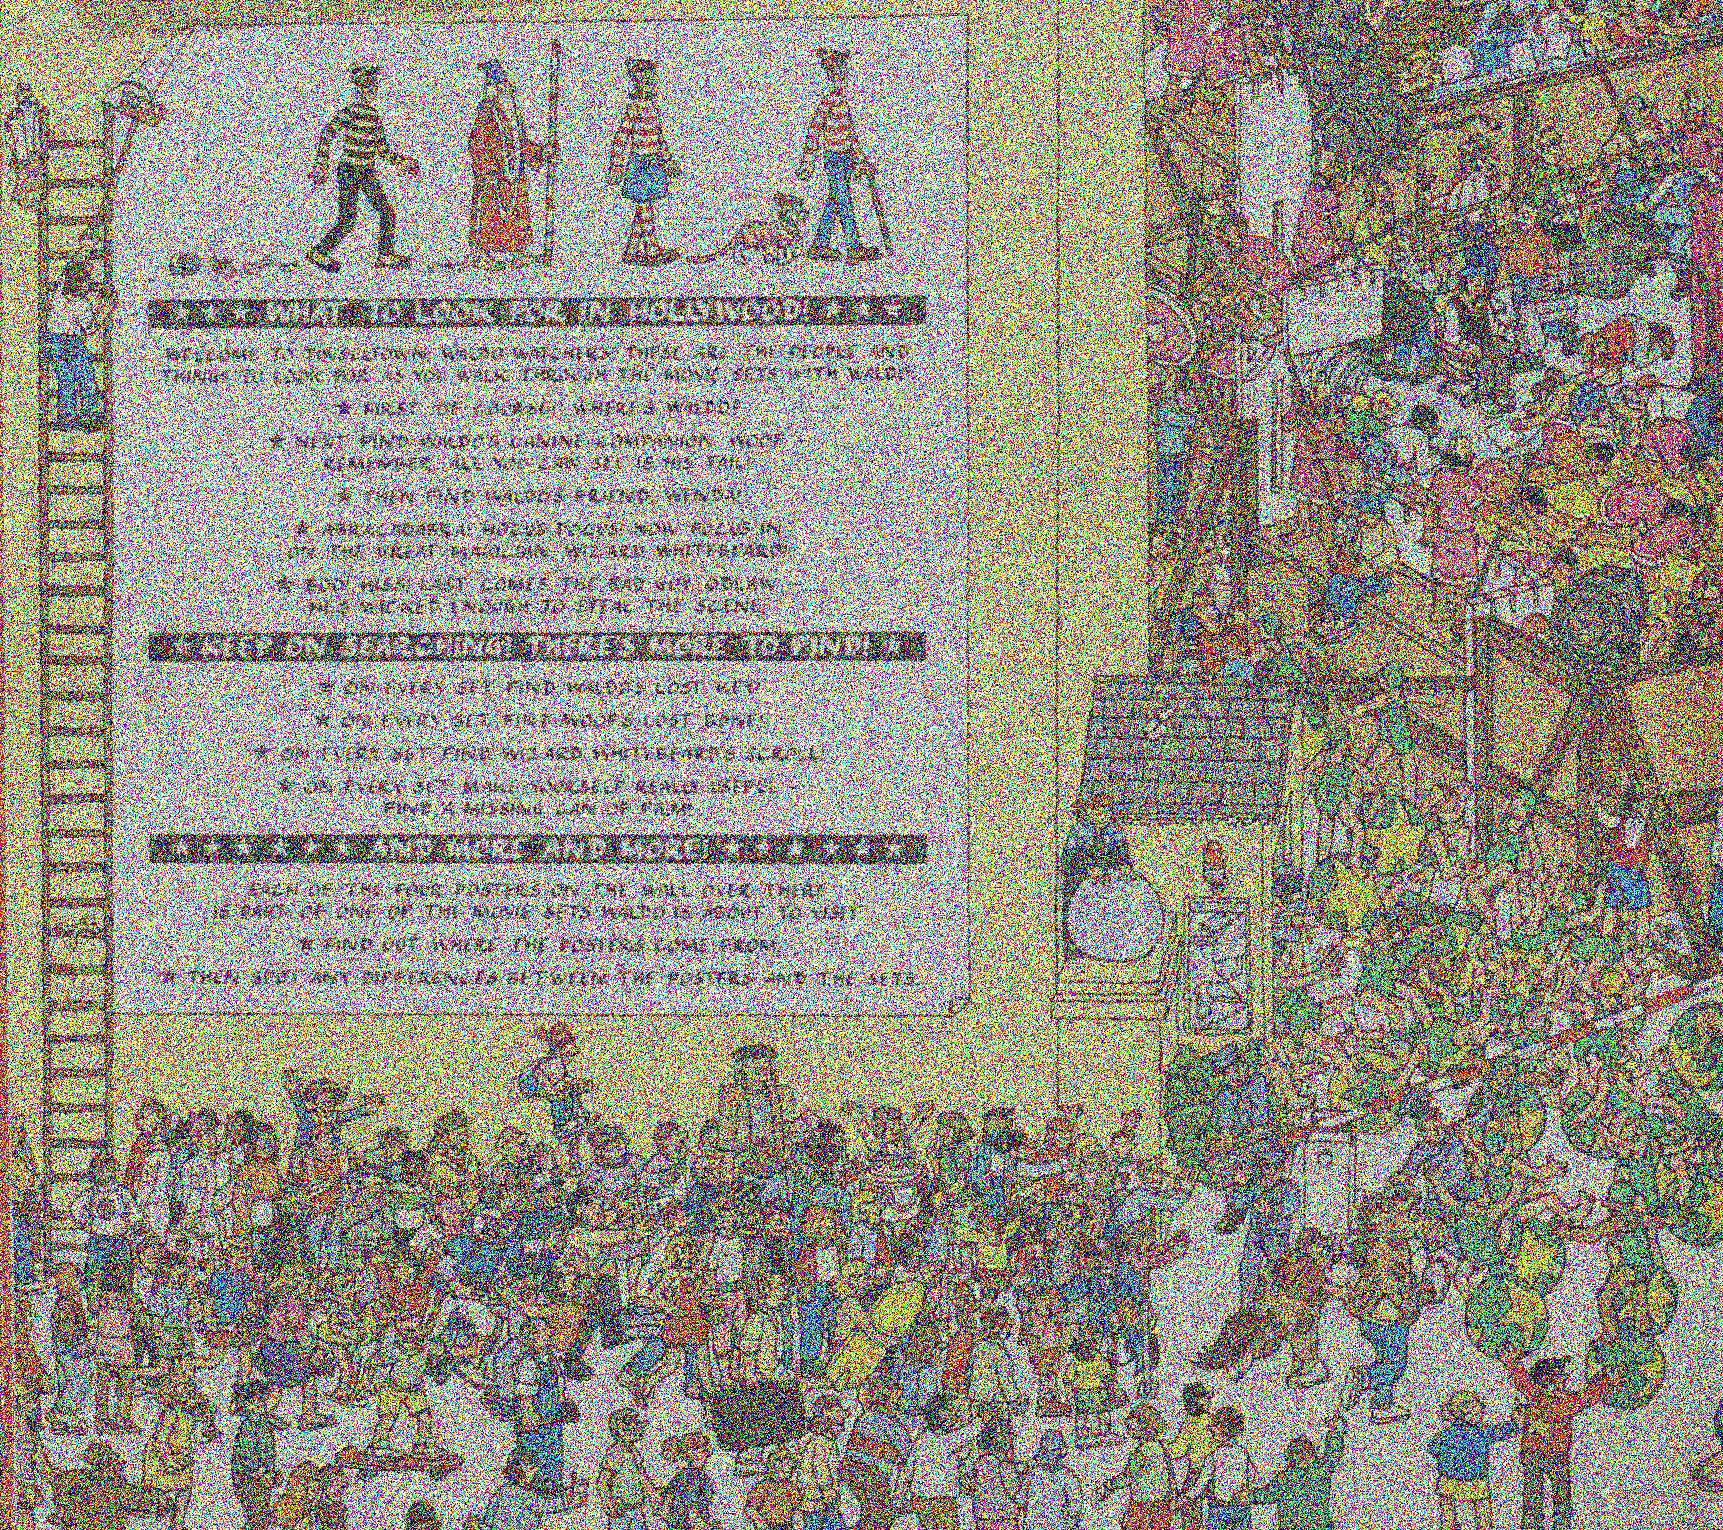waldos: (793, 49, 893, 264)
